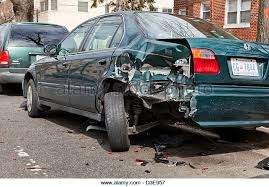Smashed: (112, 42, 201, 128)
